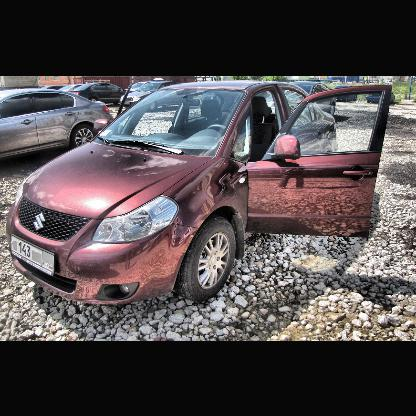Suzuki SX4 Sedan 2012: (5, 81, 393, 309)
